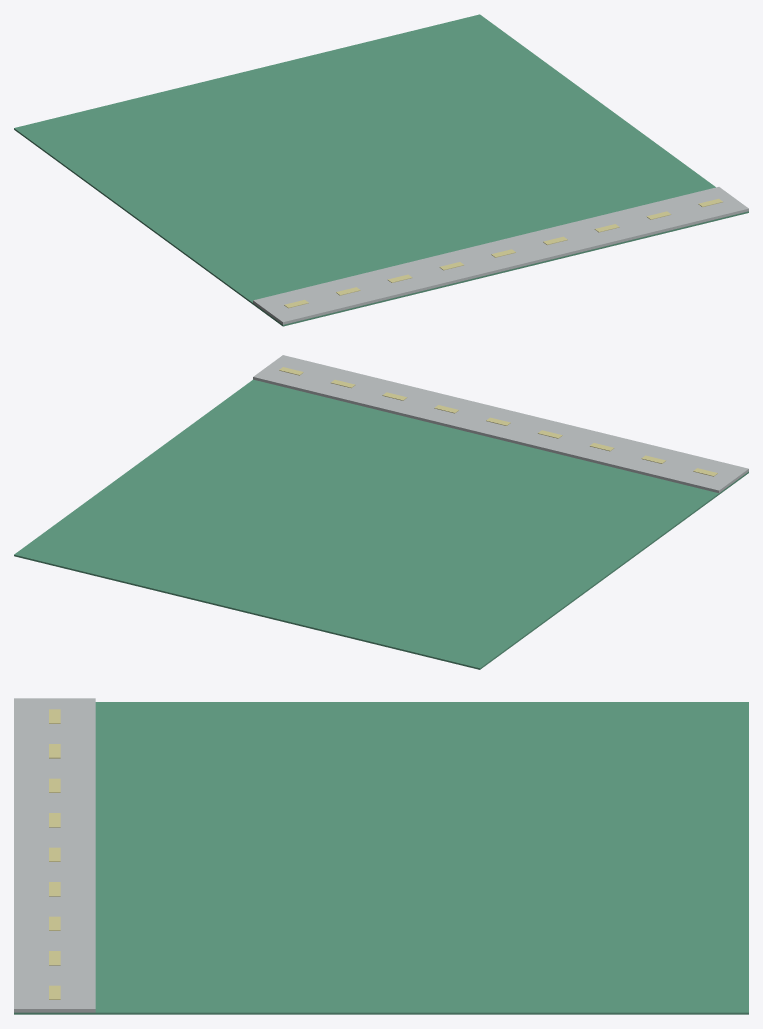
The model's file is stage_00.glb.
The picture shows the model from 3 angles, top to bottom: view 1: azimuth 30°, elevation 25°; view 2: azimuth 150°, elevation 25°; view 3: azimuth 270°, elevation 25°; orthographic projection. The views are drawn at different scales.
Parts seen in each view (by area): view 1: geometry_0; view 2: geometry_0; view 3: geometry_0.
Boxes of the visible parts, x1=… form: geometry_0: x1=14, y1=14, x2=748, y2=326; geometry_0: x1=14, y1=355, x2=748, y2=669; geometry_0: x1=14, y1=698, x2=748, y2=1014.
Size of the model in its own units: 9 by 0.091 by 9.
